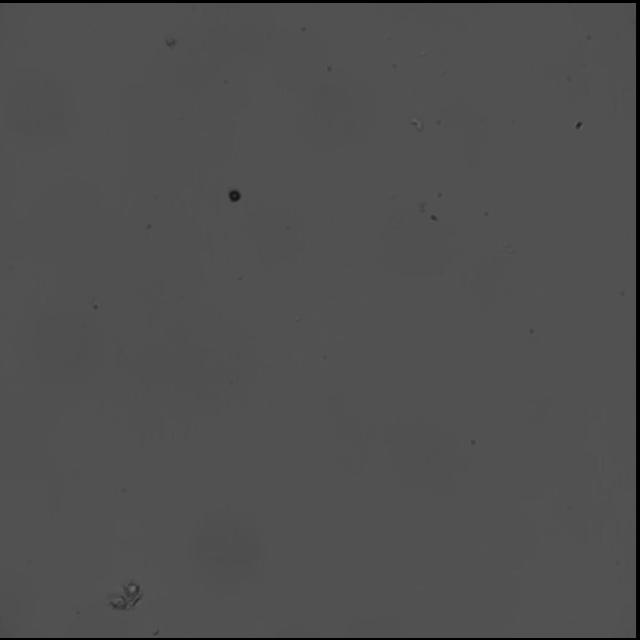microbeads: (228, 186, 242, 204)
